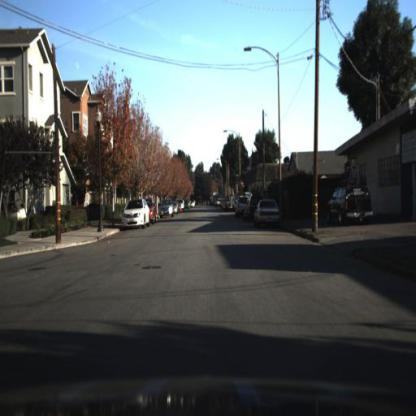car: (325, 172, 378, 230), (120, 197, 151, 230), (254, 195, 282, 229), (122, 200, 151, 227), (159, 198, 175, 219)
